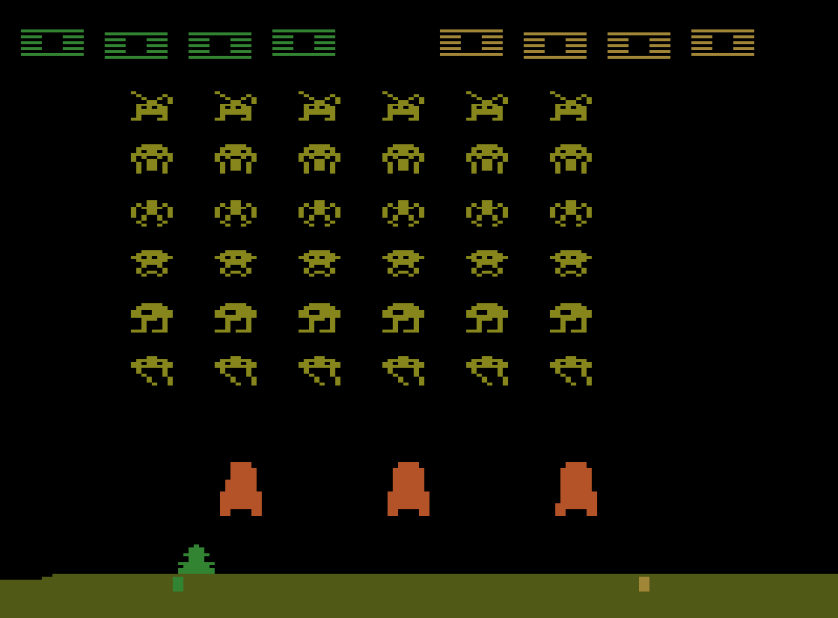invader1: (381, 87, 427, 123), (296, 89, 344, 122), (214, 88, 259, 123), (549, 88, 594, 123), (130, 88, 175, 122), (465, 88, 510, 122)
invader2: (212, 141, 260, 177), (549, 142, 595, 176), (379, 143, 427, 175), (297, 142, 342, 176), (464, 142, 510, 175), (130, 142, 175, 174)
invader3: (214, 197, 259, 229), (464, 198, 510, 229), (548, 198, 594, 229), (130, 198, 175, 229), (380, 198, 425, 229), (298, 198, 342, 229)
invader4: (128, 247, 175, 279), (295, 248, 342, 279), (549, 247, 594, 279), (382, 247, 426, 279), (214, 248, 259, 278), (465, 249, 510, 279)
invader5: (128, 299, 174, 335), (464, 299, 511, 334), (297, 300, 343, 335), (212, 301, 259, 335), (549, 300, 594, 335), (381, 300, 427, 334)
invader6: (130, 354, 177, 389), (297, 353, 344, 388), (380, 354, 427, 388), (214, 354, 260, 388), (465, 354, 510, 388), (549, 353, 594, 387)
player: (177, 540, 217, 575)
